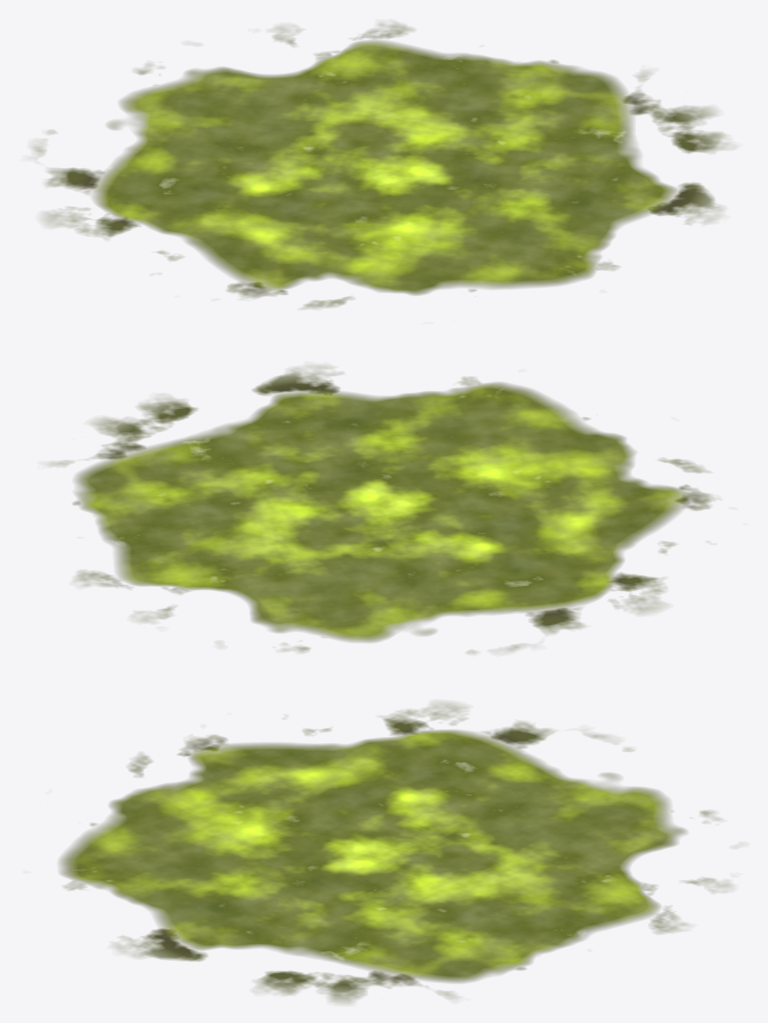
Rendered from gall_puddle.glb.
The picture shows the model from 3 angles, top to bottom: view 1: azimuth 30°, elevation 25°; view 2: azimuth 150°, elevation 25°; view 3: azimuth 270°, elevation 25°; orthographic projection.
Visible parts, largest first — view 1: GallPuddle; view 2: GallPuddle; view 3: GallPuddle.
Boxes of the visible parts, x1,y1,x2,y2 form: GallPuddle: (33, 23, 728, 308); GallPuddle: (50, 366, 713, 653); GallPuddle: (59, 702, 730, 1003).
Size of the model in its own units: 5 by 0.0077 by 5.
Materials: 1 (1 with a texture image).
